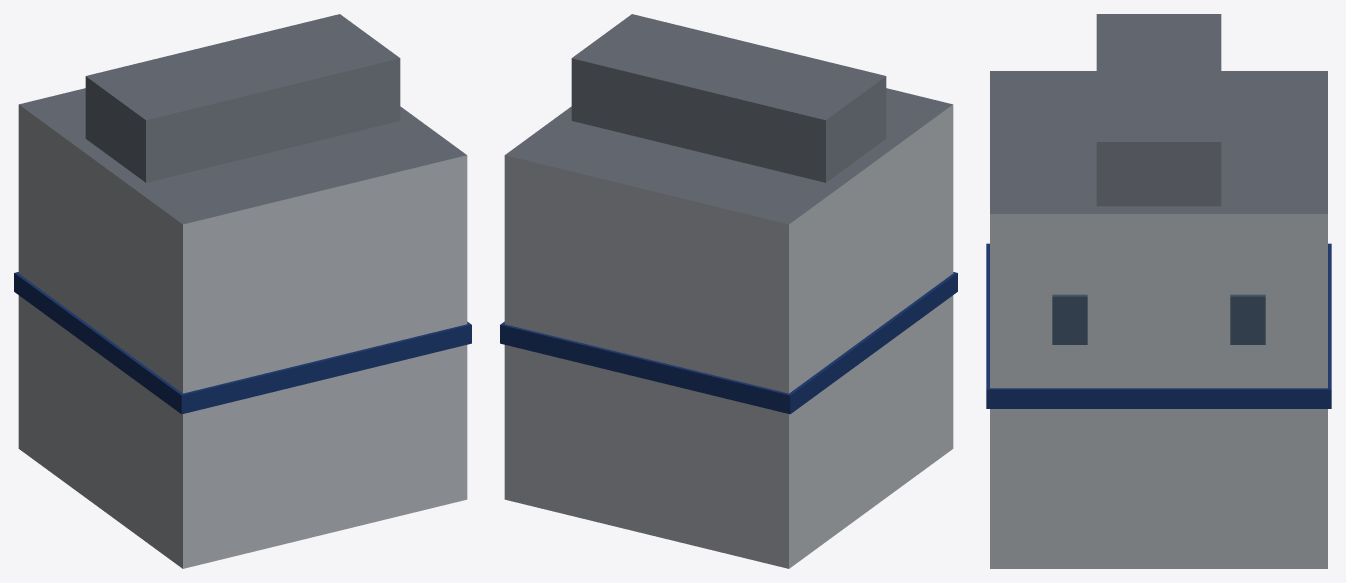
File: planta_galpon.obj
The picture shows the model from 3 angles, left to right: view 1: azimuth 30°, elevation 25°; view 2: azimuth 150°, elevation 25°; view 3: azimuth 270°, elevation 25°; orthographic projection. The views are drawn at different scales.
Parts seen in each view (by area): view 1: planta_galpon; view 2: planta_galpon; view 3: planta_galpon.
Boxes of the visible parts, <box> form: planta_galpon: <box>14,14,471,568</box>; planta_galpon: <box>500,14,957,568</box>; planta_galpon: <box>986,14,1331,568</box>.
Bounding box in the file's own units: 19.45 × 26 × 19.4.
